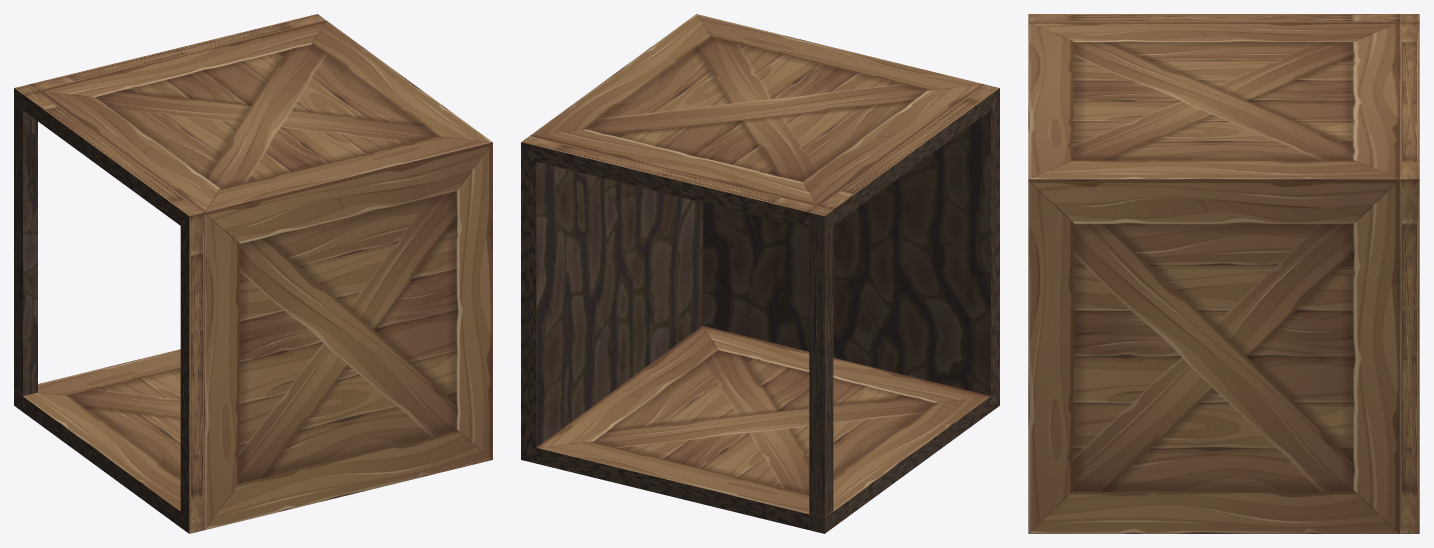
Rendered from corner.glb.
The picture shows the model from 3 angles, left to right: view 1: azimuth 30°, elevation 25°; view 2: azimuth 150°, elevation 25°; view 3: azimuth 270°, elevation 25°; orthographic projection. The views are drawn at different scales.
Visible parts, largest first — view 1: corner; view 2: corner; view 3: corner.
Part boxes in pixels (<box>): corner: <box>14,14,492,533</box>; corner: <box>521,14,999,533</box>; corner: <box>1028,14,1419,533</box>.
Size of the model in its own units: 1 by 1 by 1.
1 material, 1 textured.
